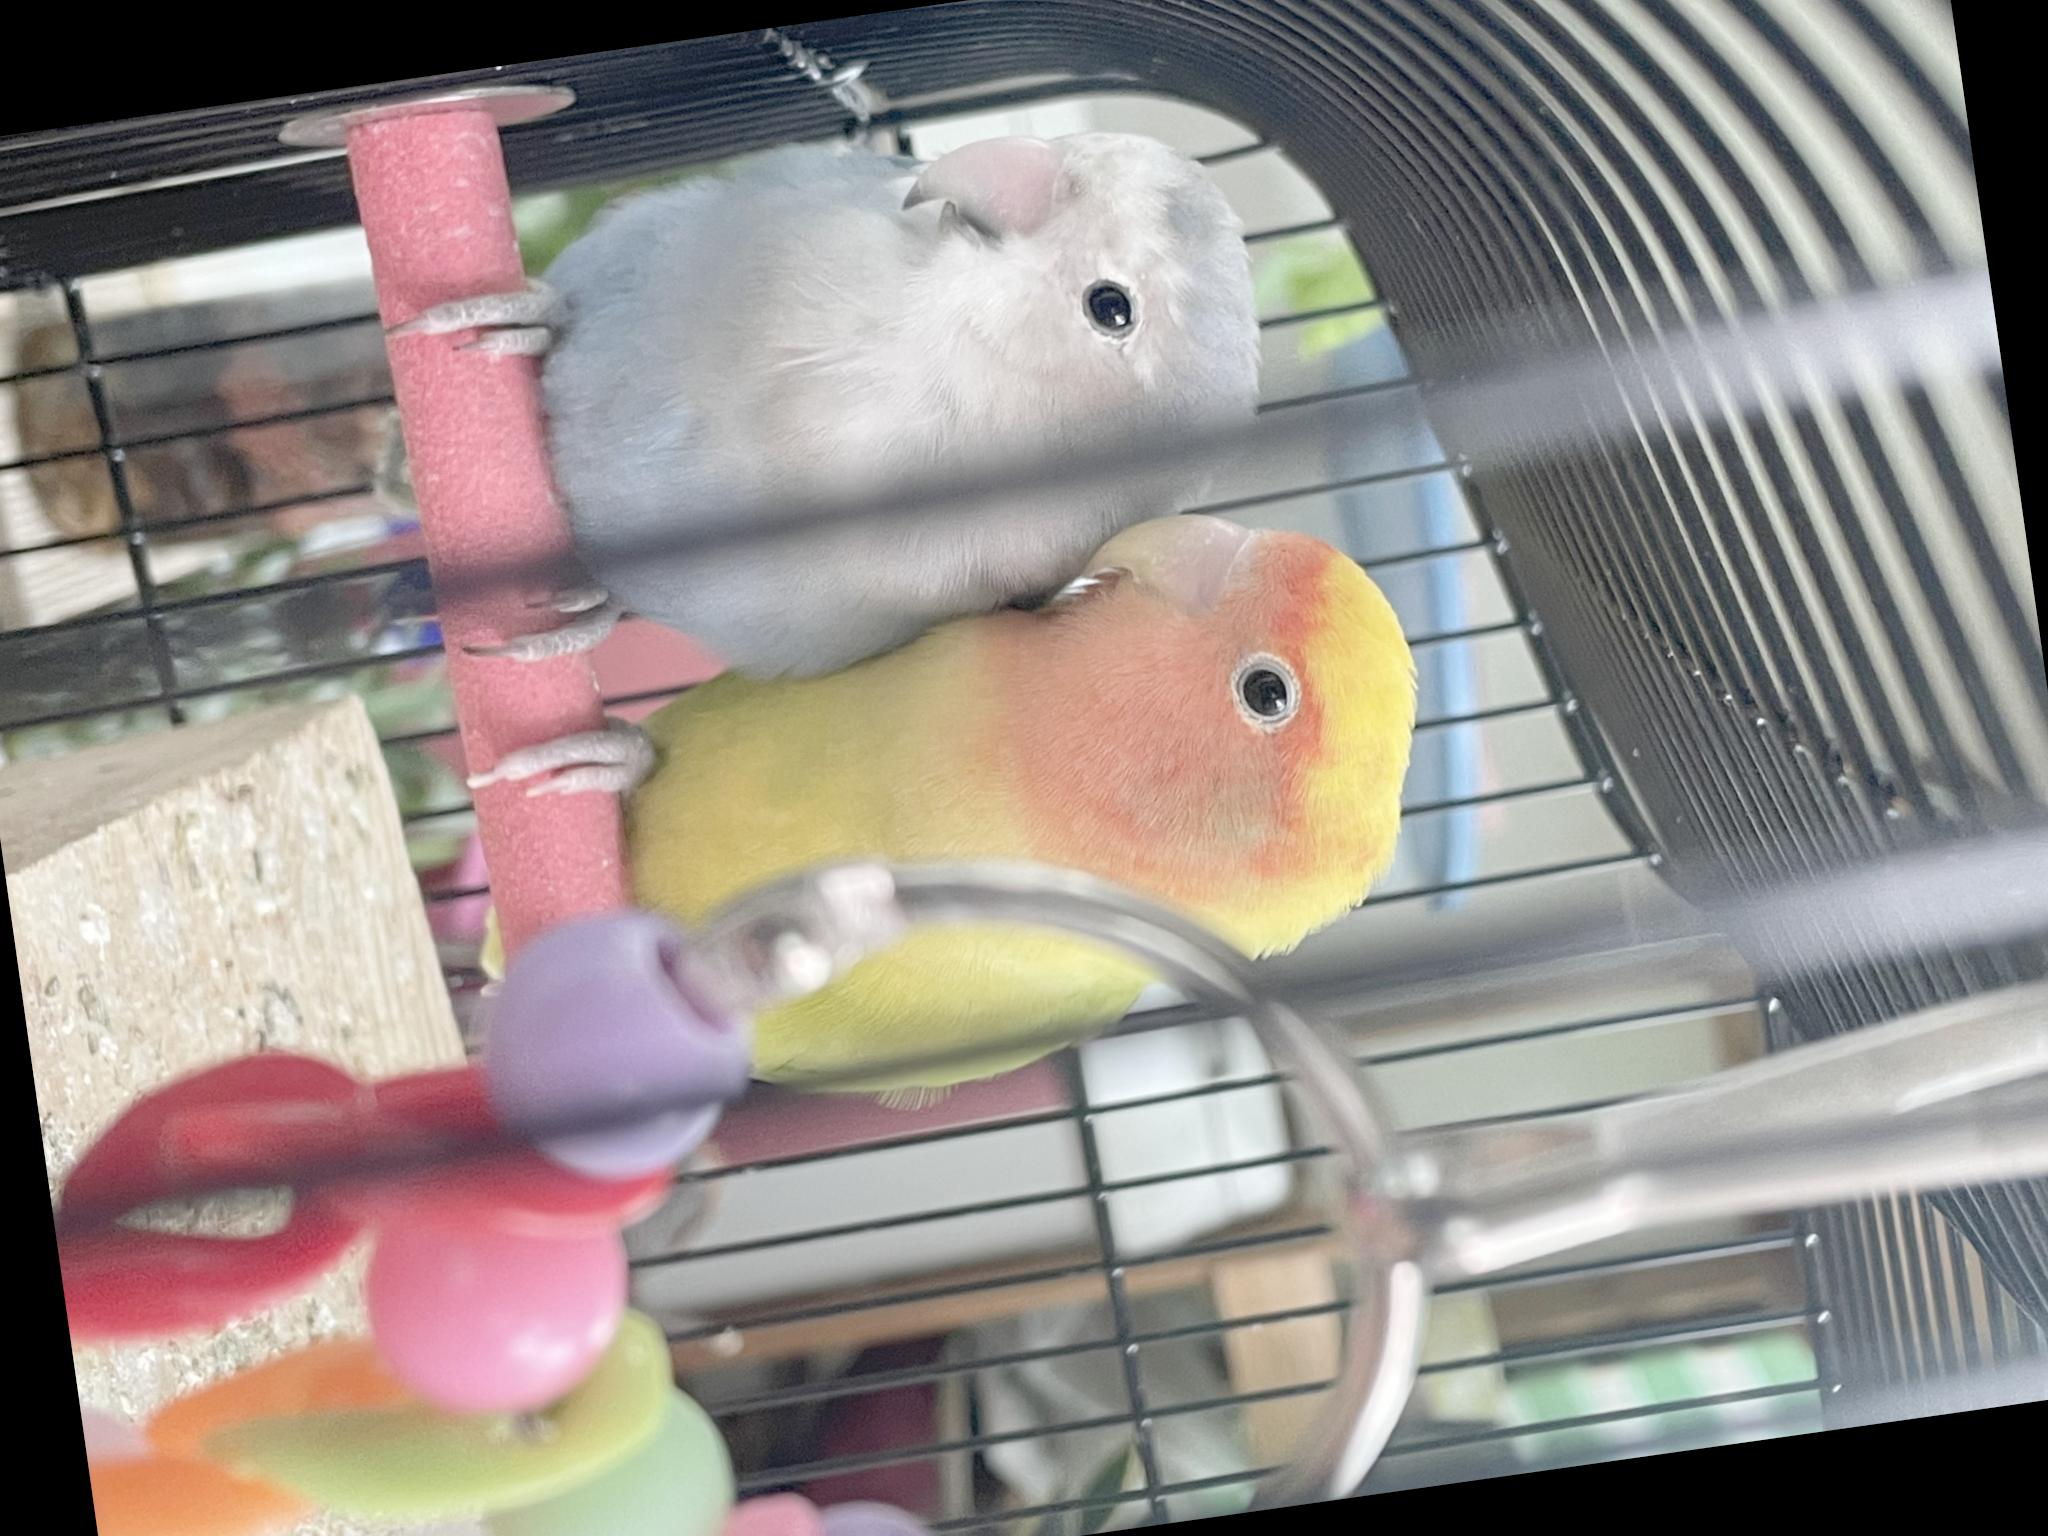bird: (1008, 520, 1669, 1528), (621, 691, 1221, 1536)
